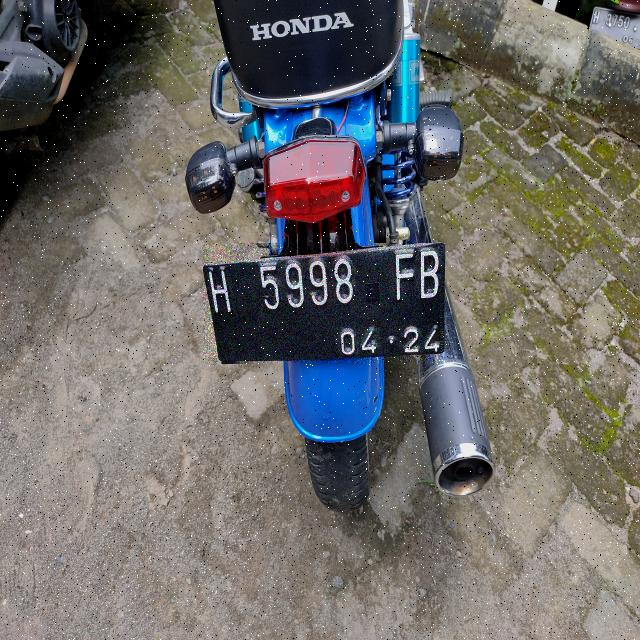plate: (203, 244, 445, 364)
